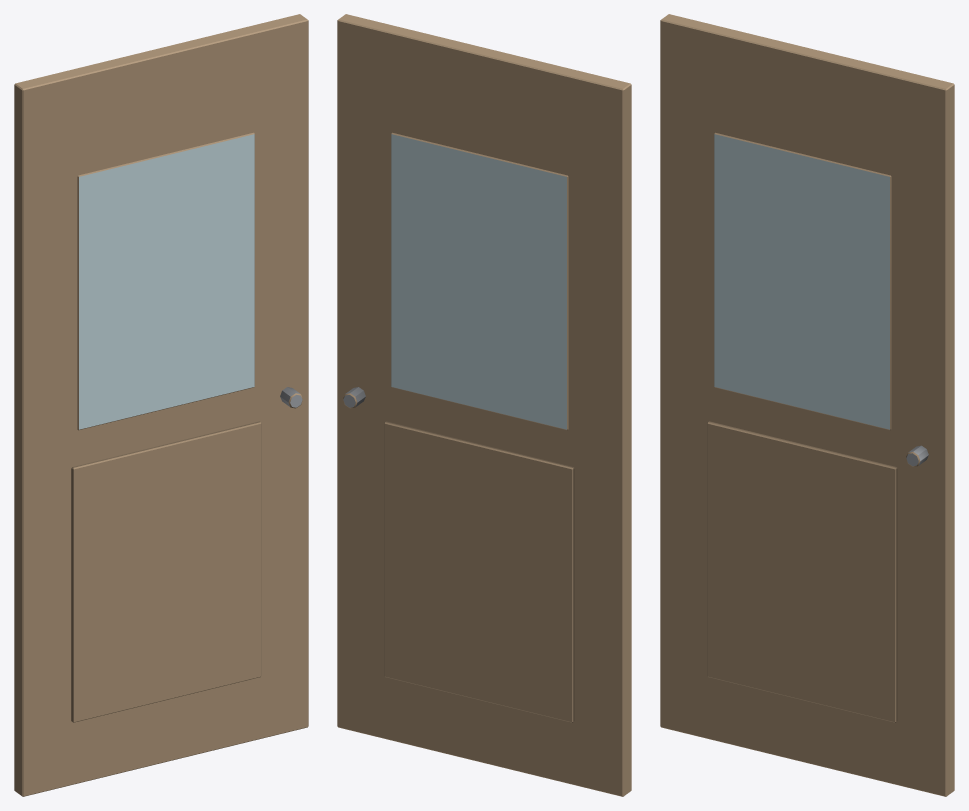
The model's file is door_glass.glb.
3 renders of one model, left to right at view 1: azimuth 30°, elevation 25°; view 2: azimuth 150°, elevation 25°; view 3: azimuth 330°, elevation 25°, orthographic.
Visible parts, largest first — view 1: door_glass; view 2: door_glass; view 3: door_glass.
Boxes of the visible parts, x1,y1,x2,y2 form: door_glass: (14,14,308,796); door_glass: (337,14,631,796); door_glass: (660,14,954,796).
Bounding box in the file's own units: 0.86 × 2.03 × 0.155.
